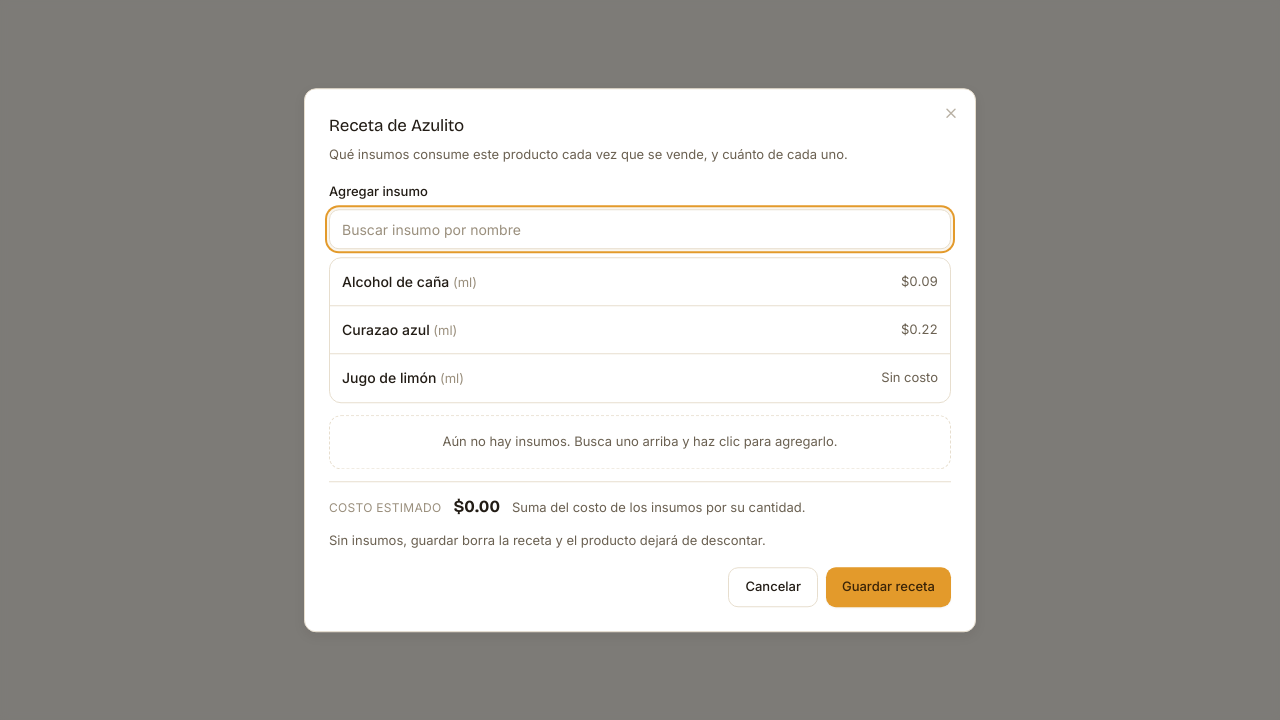
Test: RecetaProductoDialog · costo estimado › suma el costo de los insumos por su cantidad
This screenshot has width=1280, height=720.
Click the button with aria-label "agregar alcohol de caña" at (396, 282), box [330,258,950,306]
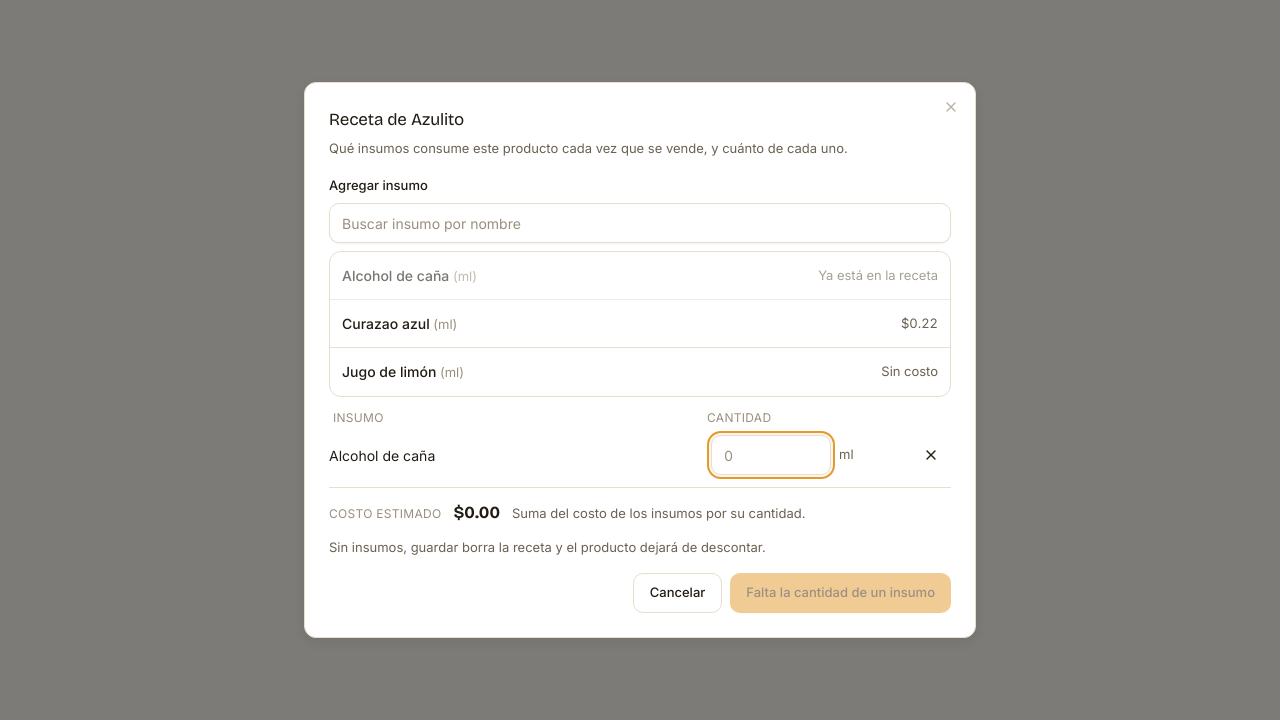
Type "60" into the field named "cantidad de alcohol de caña" at (771, 455), box [711,435,831,475]
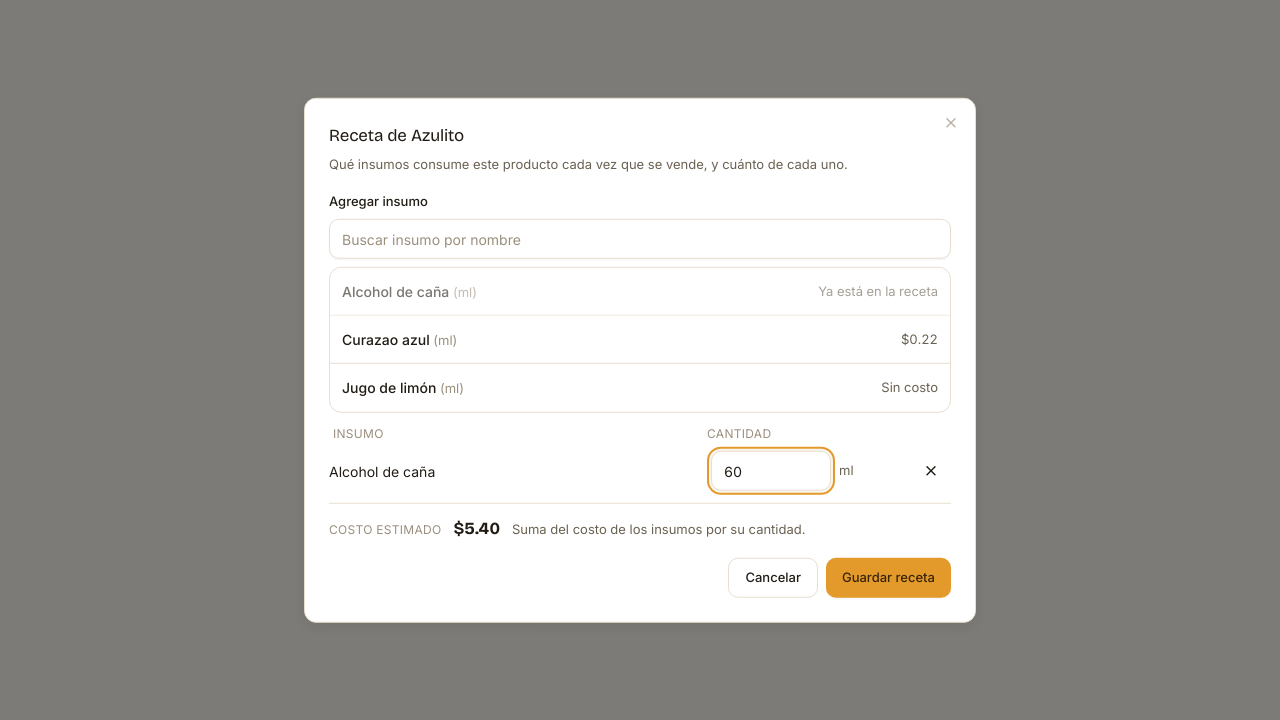
Now the text "$5.40" is shown, box [454,516,500,541]
